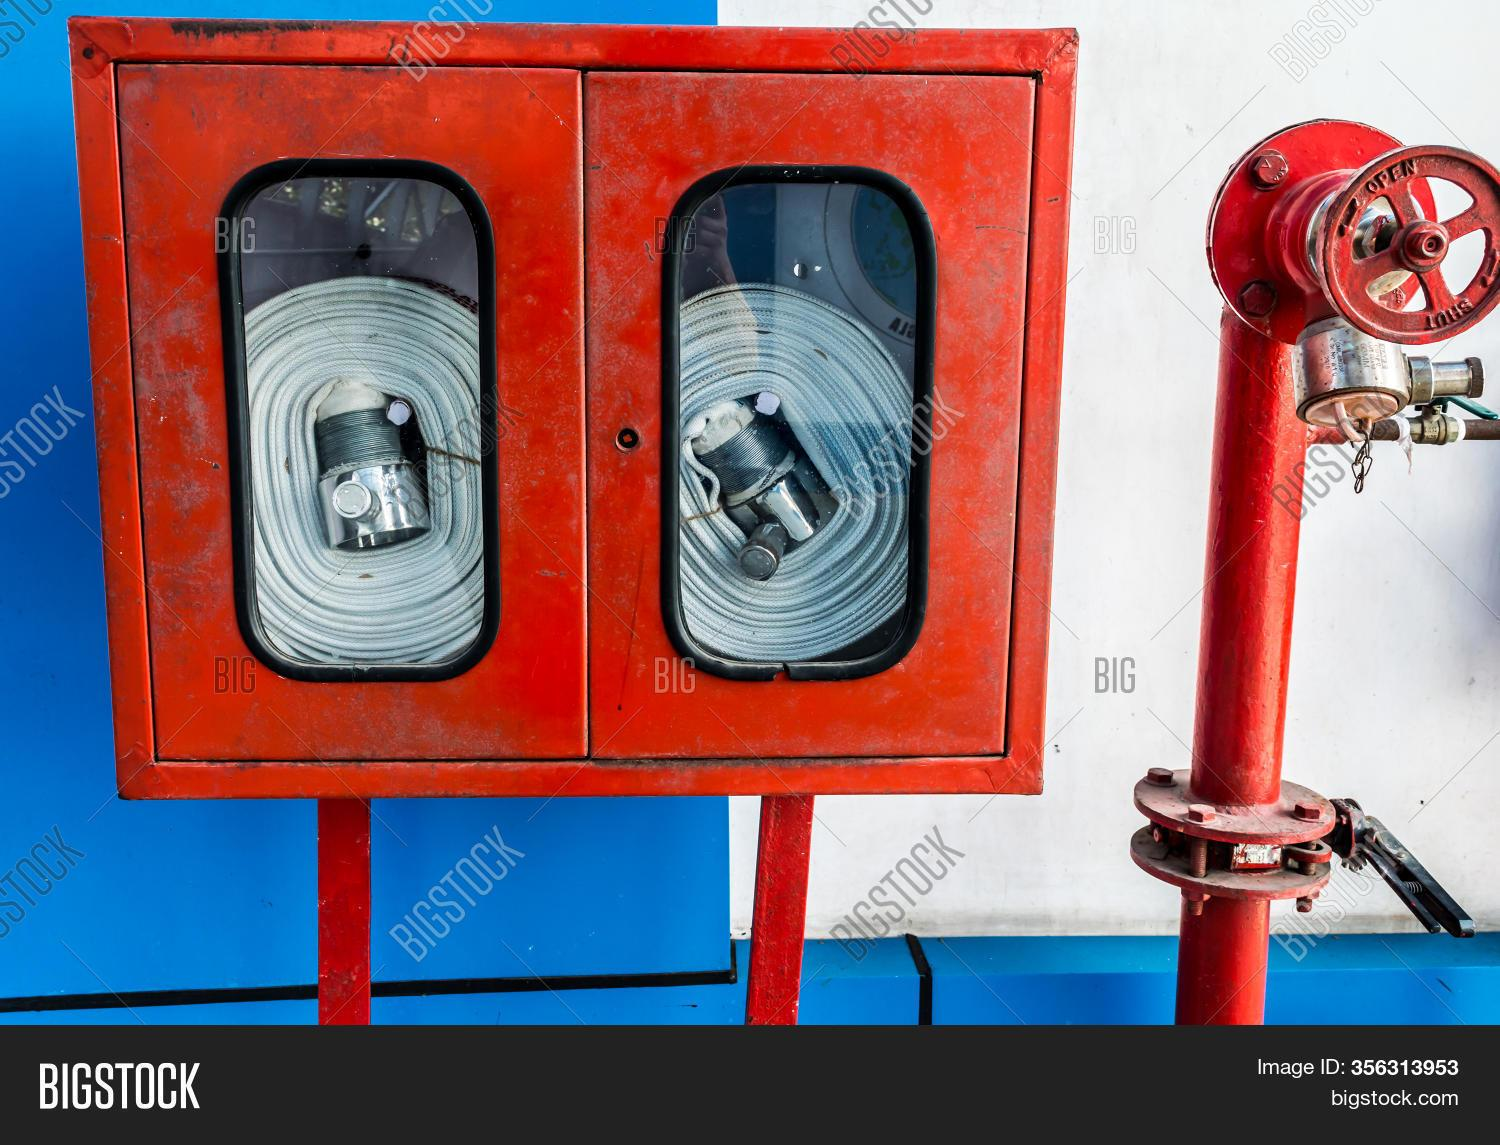cabinet: (69, 14, 1078, 802)
hose: (241, 277, 487, 670), (677, 280, 921, 669)
